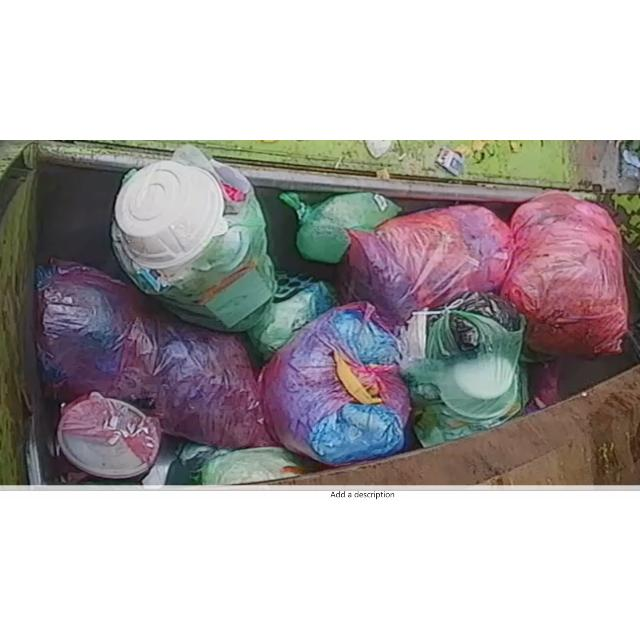general_trashbag: (111, 145, 276, 332), (402, 310, 528, 448), (279, 192, 402, 264), (248, 271, 336, 360)
other_trashbag: (36, 262, 274, 448), (261, 302, 410, 465), (339, 205, 512, 328), (501, 191, 628, 357)
